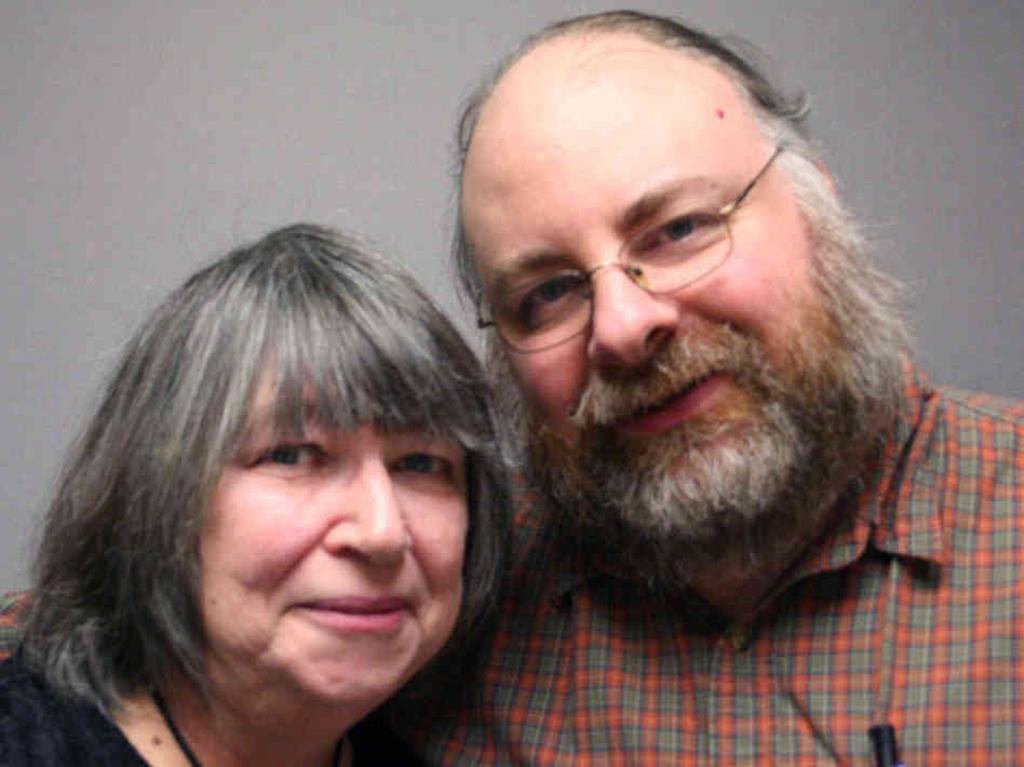face: (496, 106, 780, 496), (214, 306, 466, 660)
